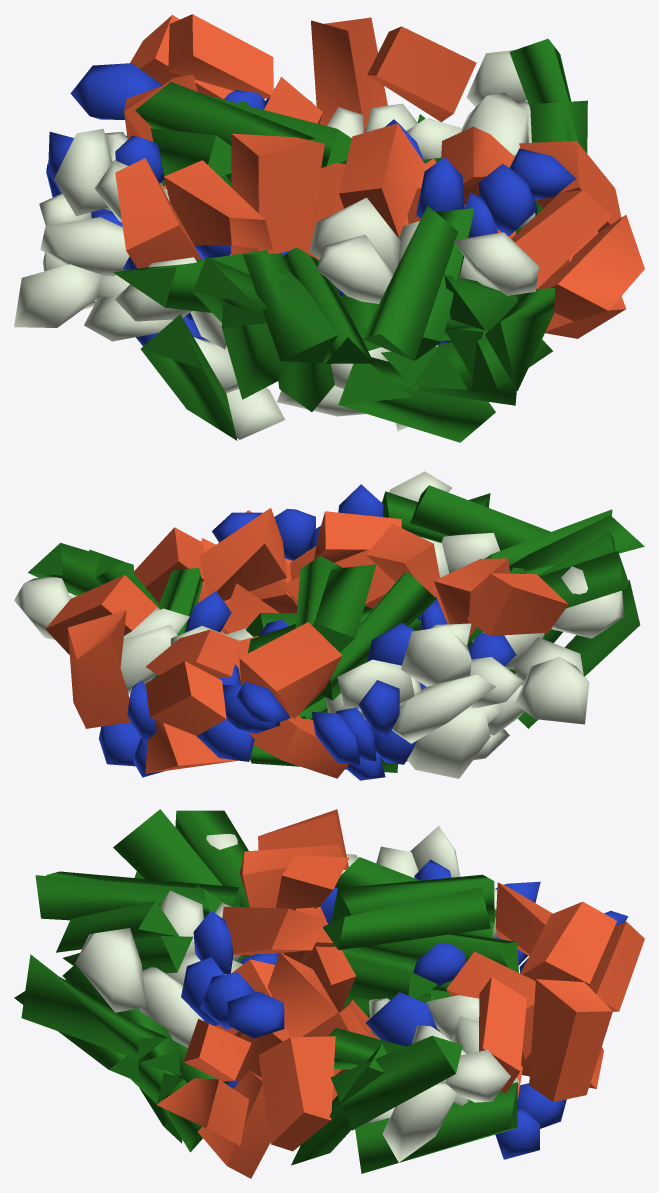
The model's file is SM_MacedoineLegumes.FBX.
The picture shows the model from 3 angles, top to bottom: view 1: azimuth 30°, elevation 25°; view 2: azimuth 150°, elevation 25°; view 3: azimuth 270°, elevation 25°; orthographic projection. The views are drawn at different scales.
Visible parts, largest first — view 1: SM_MacedoineLegumes; view 2: SM_MacedoineLegumes; view 3: SM_MacedoineLegumes.
Part boxes in pixels (x1,y1,x2,y2): SM_MacedoineLegumes: [14, 14, 644, 442]; SM_MacedoineLegumes: [14, 471, 644, 780]; SM_MacedoineLegumes: [14, 809, 644, 1178].
Bounding box in the file's own units: 15.72 × 6.8 × 16.48.
